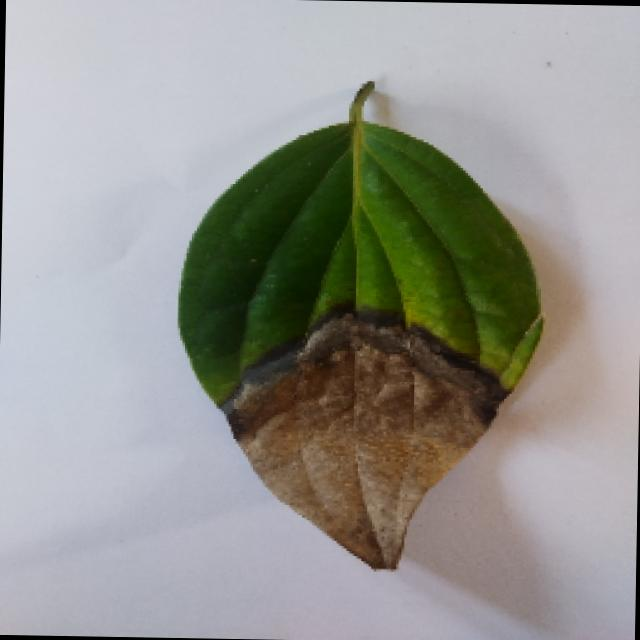footrot: (168, 77, 547, 576)
